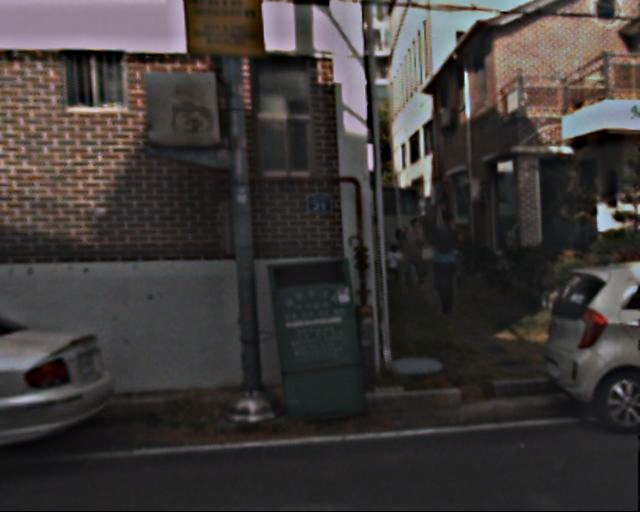person: (421, 210, 467, 314), (395, 217, 431, 294), (381, 246, 397, 283)
